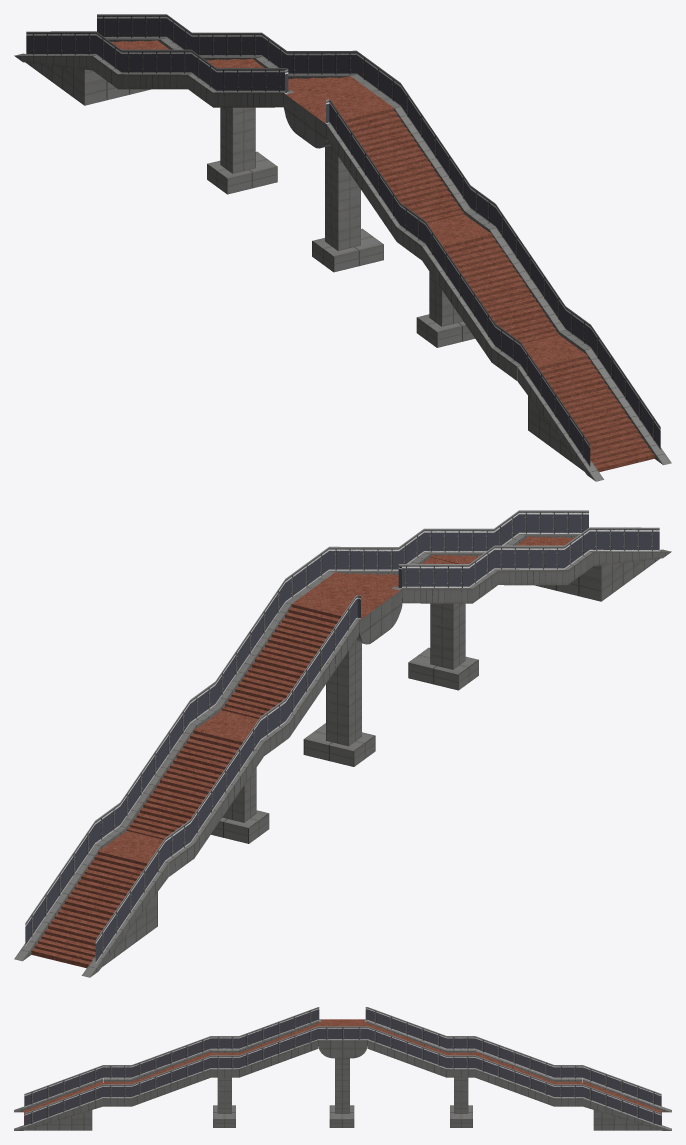
File: sm_prbridge_10m2.fbx
3 renders of one model, top to bottom at view 1: azimuth 30°, elevation 25°; view 2: azimuth 150°, elevation 25°; view 3: azimuth 270°, elevation 25°, orthographic. The views are drawn at different scales.
Visible parts, largest first — view 1: sm_prbridge_10m2; view 2: sm_prbridge_10m2; view 3: sm_prbridge_10m2.
Boxes of the visible parts, left/top/right/bottom form: sm_prbridge_10m2: left=14, top=14, right=671, bottom=481; sm_prbridge_10m2: left=14, top=510, right=671, bottom=977; sm_prbridge_10m2: left=14, top=1007, right=671, bottom=1130.
Bounding box in the file's own units: 5.04 × 11.62 × 66.61.
